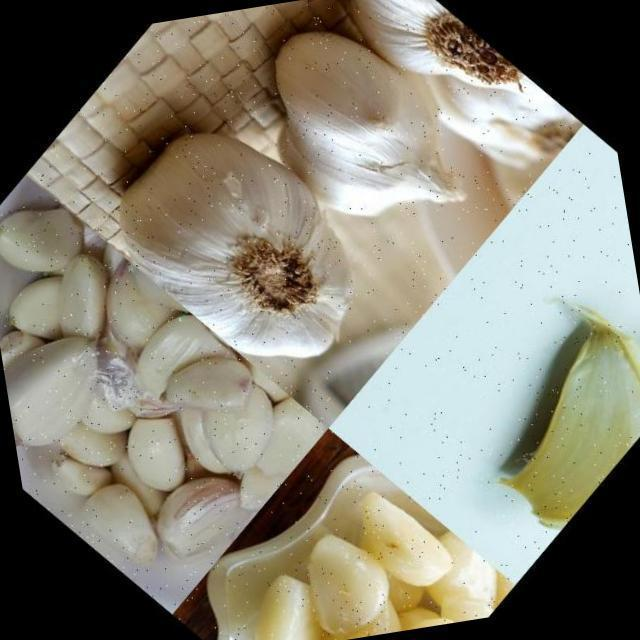garlic: (0, 134, 351, 627), (68, 59, 430, 428), (189, 0, 531, 305), (193, 449, 518, 640), (304, 0, 572, 197), (444, 295, 640, 551), (593, 247, 640, 411)
